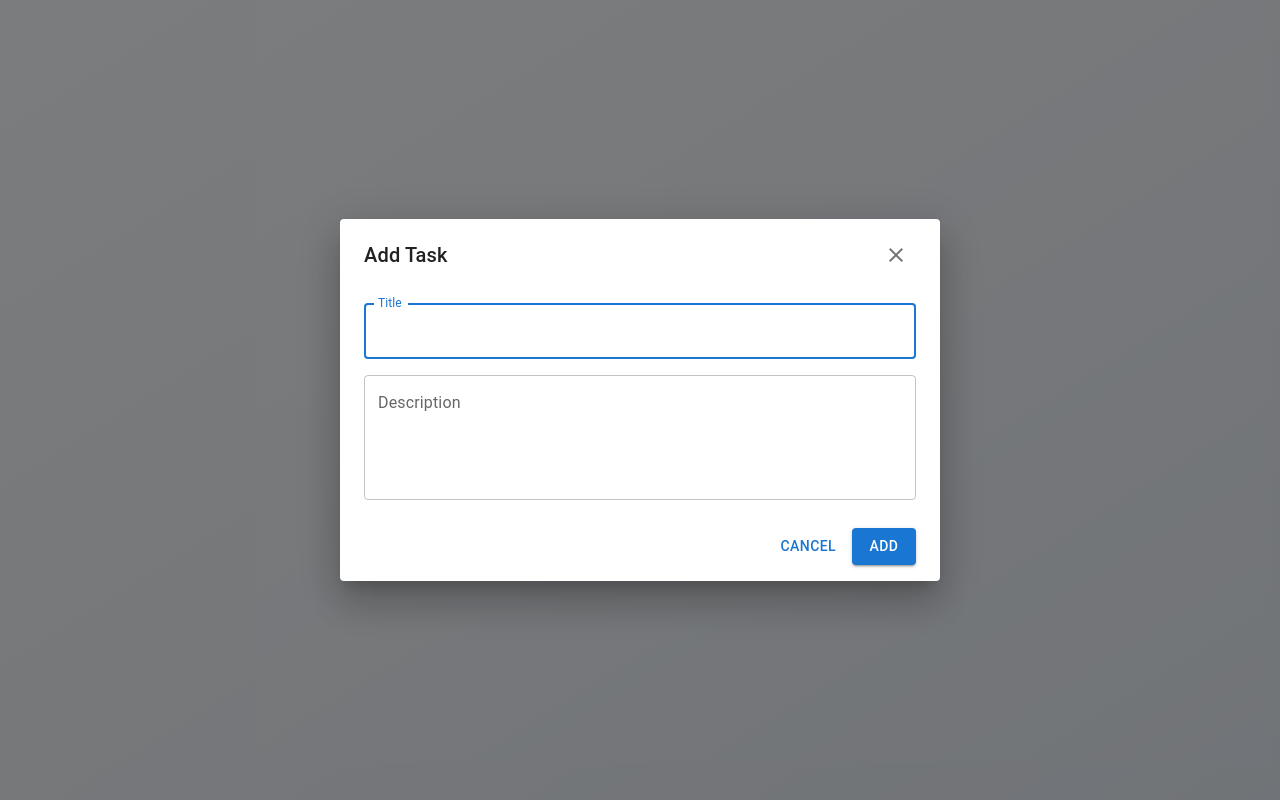
Test: TaskFormDialog › shows validation error on empty submit
What coordinates should you click on to do the following:
click the button "Add"
I would click on:
 (884, 547)
Its box is [852,528,916,565].
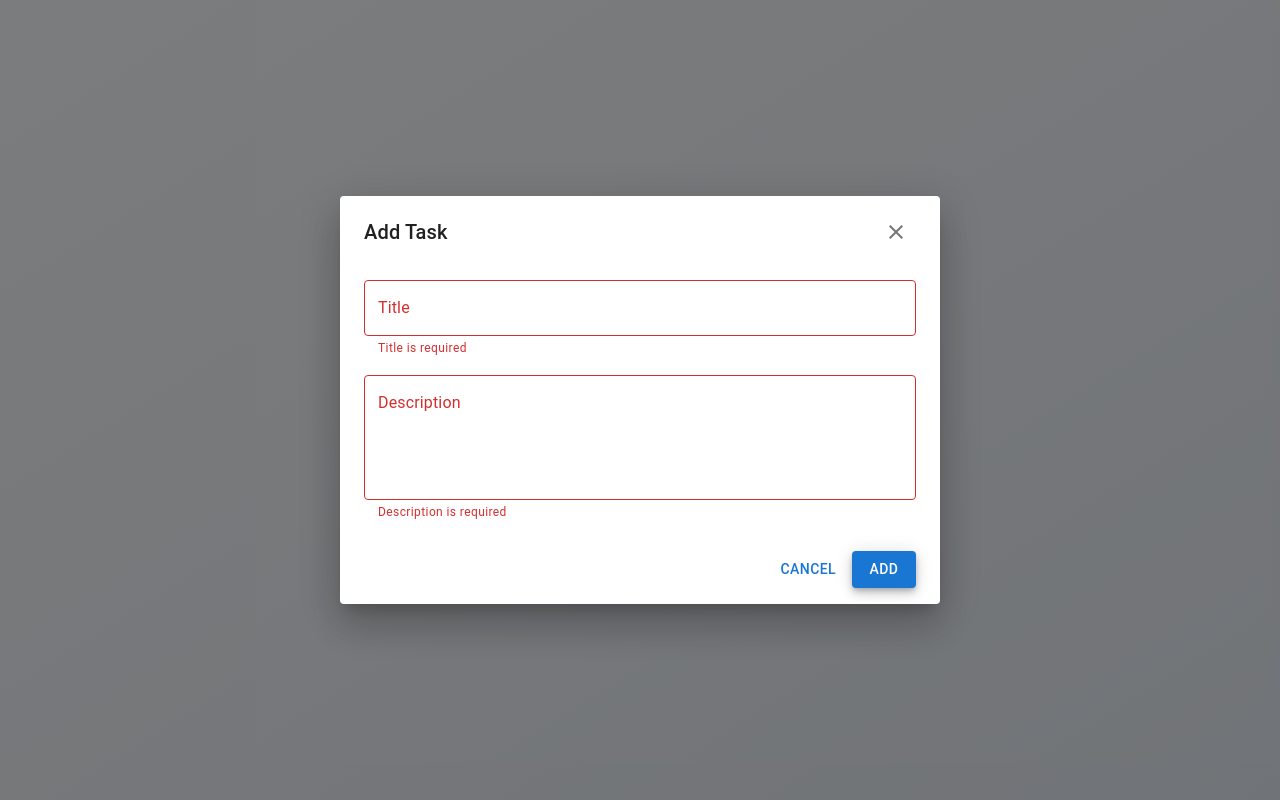
Now the text "Title is required" is shown, box [378,341,467,355]
